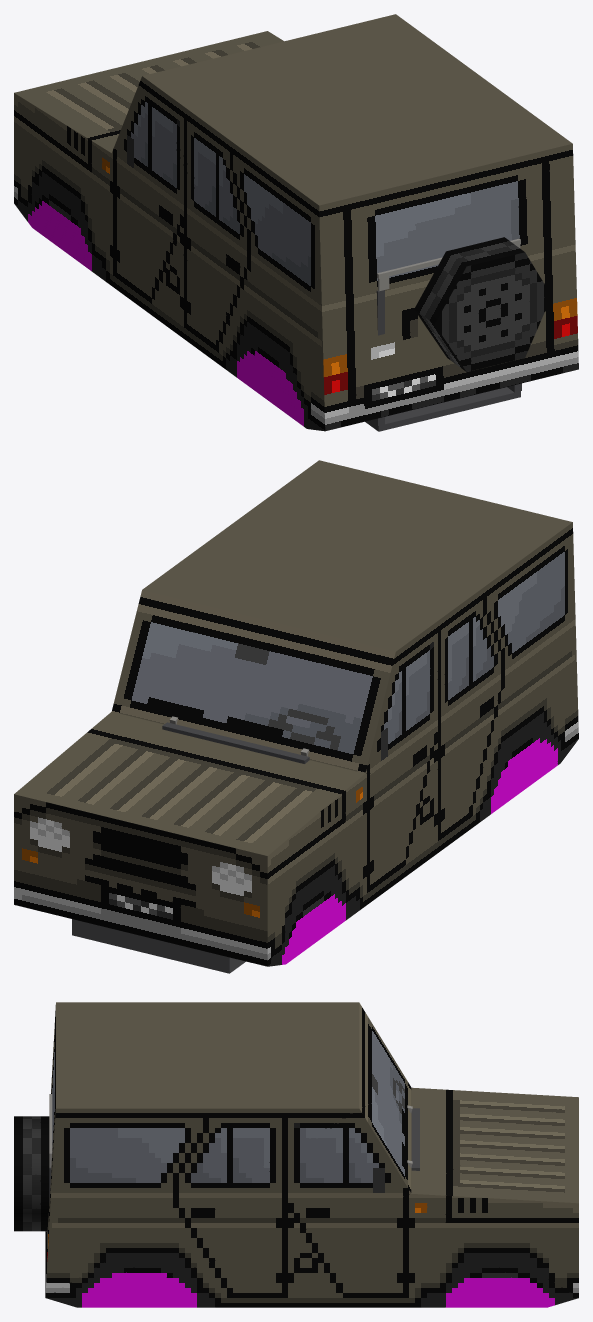
Rendered from bobyk.glb.
The picture shows the model from 3 angles, top to bottom: view 1: azimuth 30°, elevation 25°; view 2: azimuth 150°, elevation 25°; view 3: azimuth 270°, elevation 25°; orthographic projection. The views are drawn at different scales.
Parts seen in each view (by area): view 1: body, hood, interior; view 2: body, hood, bay, interior; view 3: body, hood, interior.
Part boxes in pixels (x1,y1,x2,y2): body: [14, 14, 578, 431]; hood: [14, 31, 283, 152]; interior: [365, 238, 521, 431]; body: [14, 460, 578, 966]; hood: [14, 712, 364, 855]; bay: [72, 919, 245, 973]; interior: [162, 716, 309, 763]; body: [14, 1002, 578, 1307]; hood: [411, 1087, 578, 1203]; interior: [49, 1094, 419, 1202].
Size of the model in its own units: 1.78 by 1.65 by 4.
Materials: 8 (1 with a texture image).
